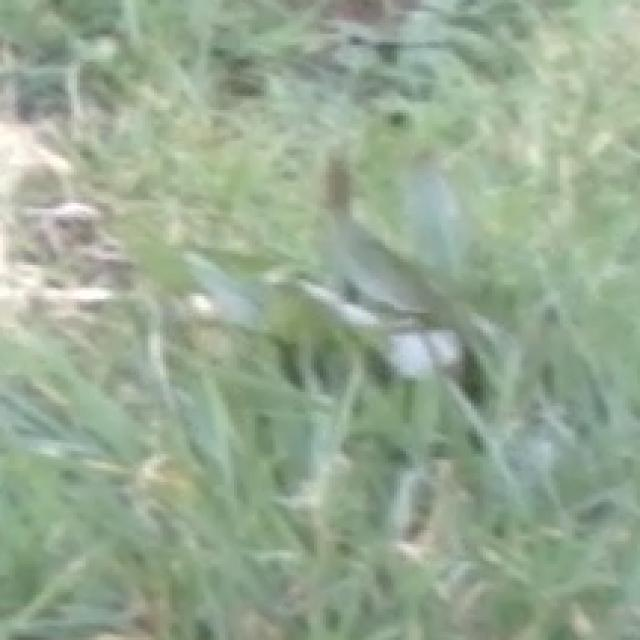organic waste: (152, 152, 578, 416)
